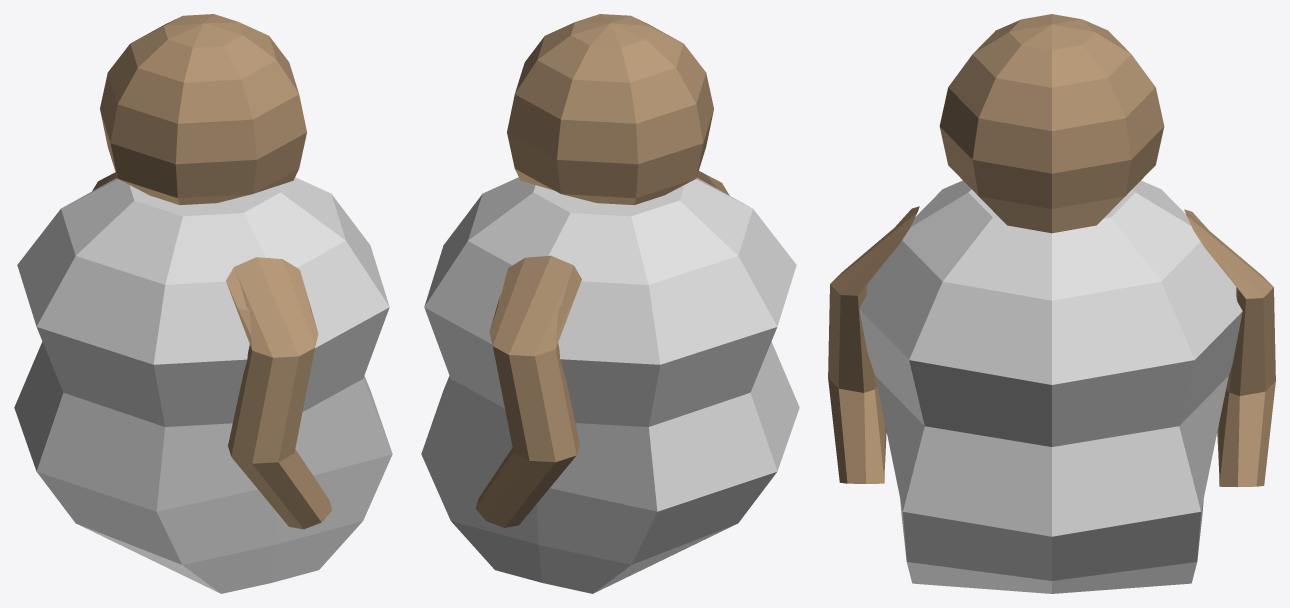
Rendered from Character.fbx.
The picture shows the model from 3 angles, left to right: view 1: azimuth 30°, elevation 25°; view 2: azimuth 150°, elevation 25°; view 3: azimuth 270°, elevation 25°; orthographic projection. The views are drawn at different scales.
Parts seen in each view (by area): view 1: Torso.001, Head.001, Arm Right.001; view 2: Torso.001, Head.001, Arm Left.001; view 3: Torso.001, Head.001, Arm Left.001, Arm Right.001.
Boxes of the visible parts, x1,y1,x2,y2 form: Torso.001: [14, 177, 392, 593]; Head.001: [100, 14, 306, 204]; Arm Right.001: [226, 257, 332, 529]; Torso.001: [421, 177, 799, 593]; Head.001: [507, 14, 713, 204]; Arm Left.001: [475, 255, 581, 527]; Torso.001: [859, 180, 1242, 593]; Head.001: [939, 14, 1164, 233]; Arm Left.001: [1184, 209, 1275, 486]; Arm Right.001: [828, 206, 919, 483].
Size of the model in its own units: 123 by 166 by 111.
